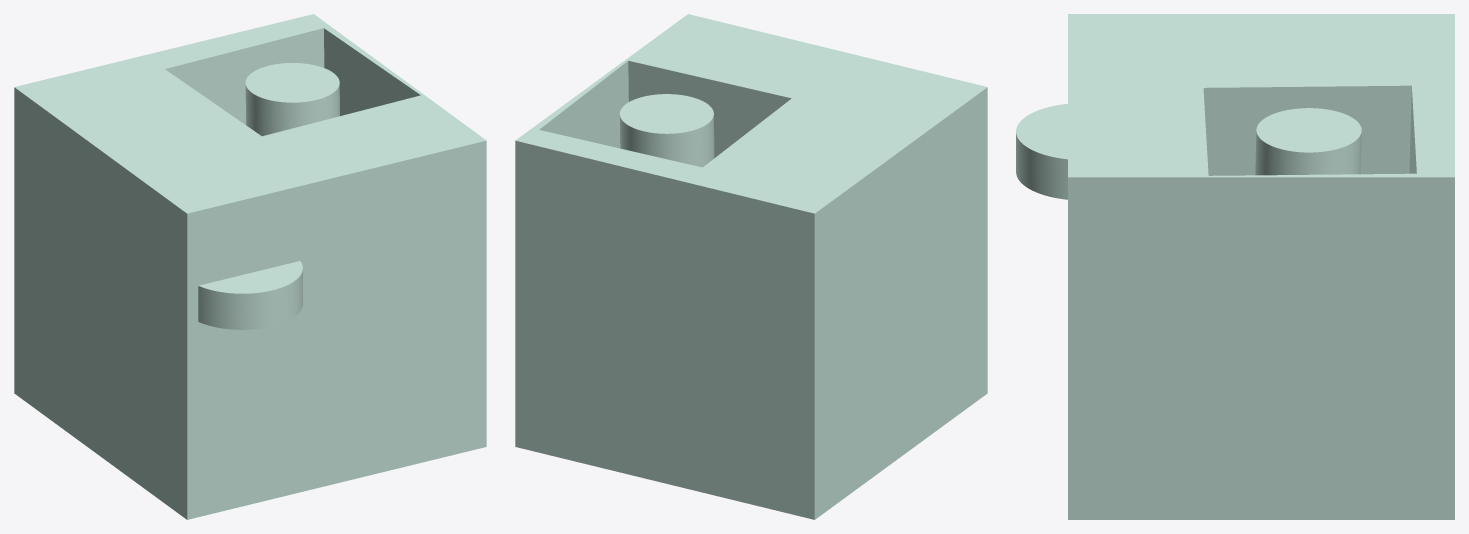
The picture shows the model from 3 angles, left to right: view 1: azimuth 30°, elevation 25°; view 2: azimuth 150°, elevation 25°; view 3: azimuth 270°, elevation 25°; orthographic projection. The views are drawn at different scales.
Visible parts, largest first — view 1: Renderer Node; view 2: Renderer Node; view 3: Renderer Node.
Boxes of the visible parts, left/top/right/bottom form: Renderer Node: left=14, top=14, right=486, bottom=519; Renderer Node: left=515, top=14, right=987, bottom=519; Renderer Node: left=1016, top=14, right=1454, bottom=519.
Size of the model in its own units: 1.02 by 0.9922 by 1.15.
